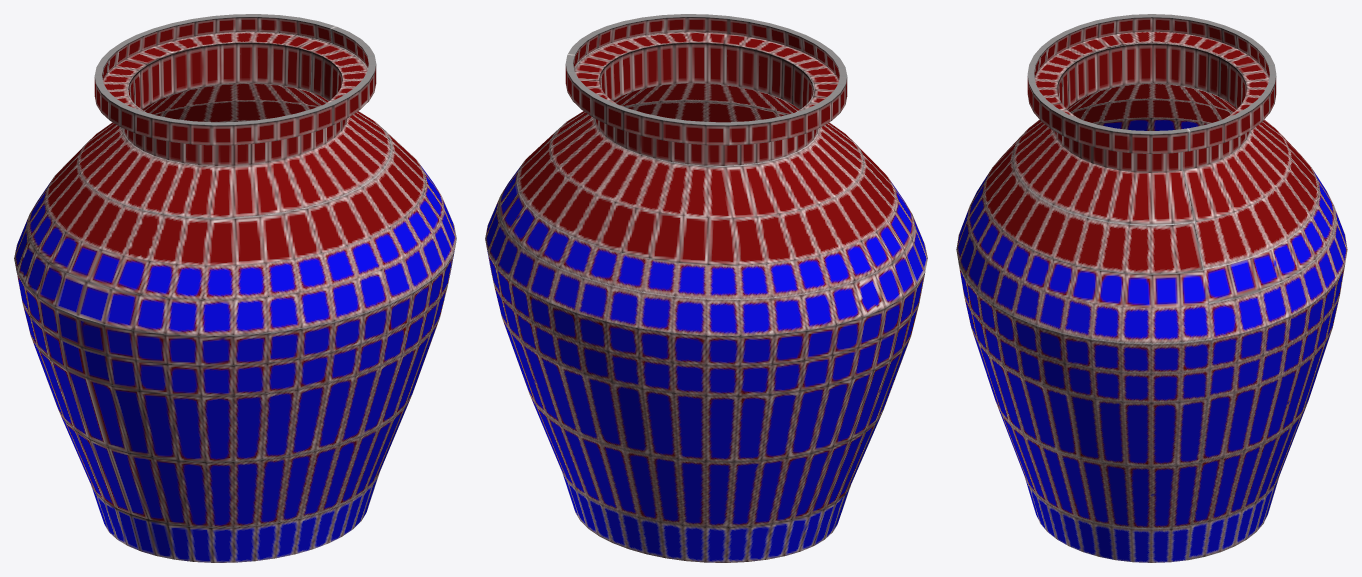
File: pitcher3.obj
The picture shows the model from 3 angles, left to right: view 1: azimuth 30°, elevation 25°; view 2: azimuth 150°, elevation 25°; view 3: azimuth 270°, elevation 25°; orthographic projection. The views are drawn at different scales.
Parts seen in each view (by area): view 1: Circle; view 2: Circle; view 3: Circle.
Boxes of the visible parts, left/top/right/bottom form: Circle: left=14, top=14, right=456, bottom=562; Circle: left=485, top=14, right=927, bottom=562; Circle: left=956, top=14, right=1347, bottom=562.
Size of the model in its own units: 4.75 by 5.06 by 4.15.
1 material, 1 textured.
